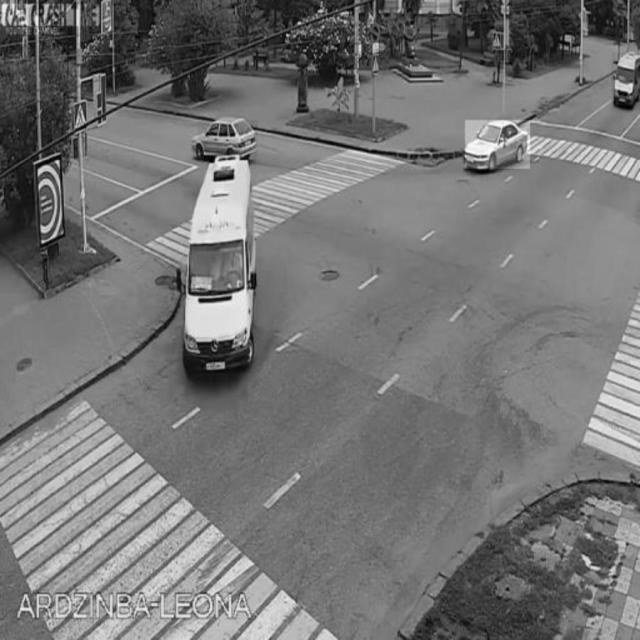vehicle: (184, 158, 252, 374), (465, 120, 531, 168), (198, 121, 258, 162), (611, 53, 640, 103)
